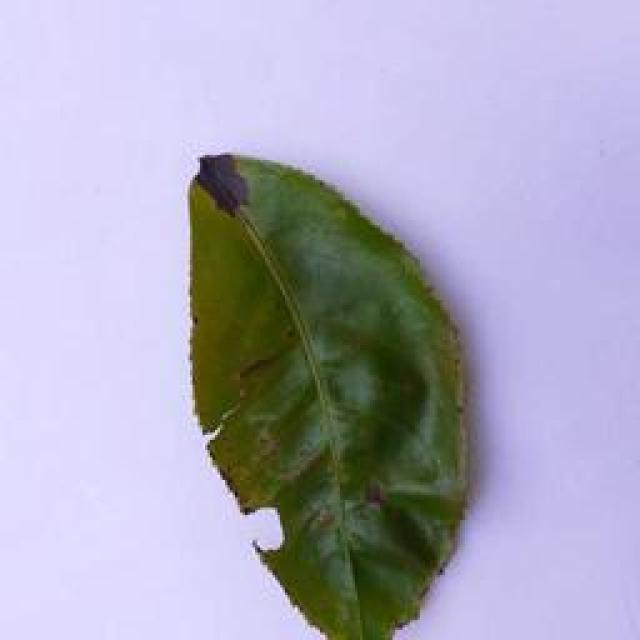Helopeltis: (176, 147, 477, 640)
